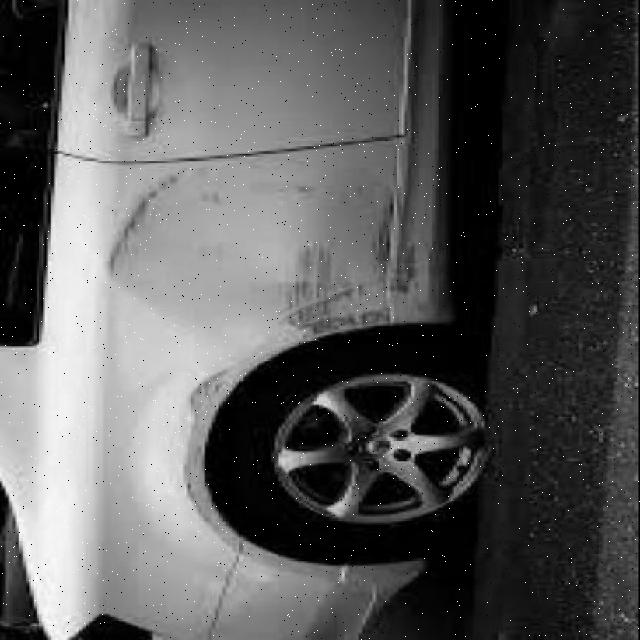damage: (84, 159, 432, 536)
